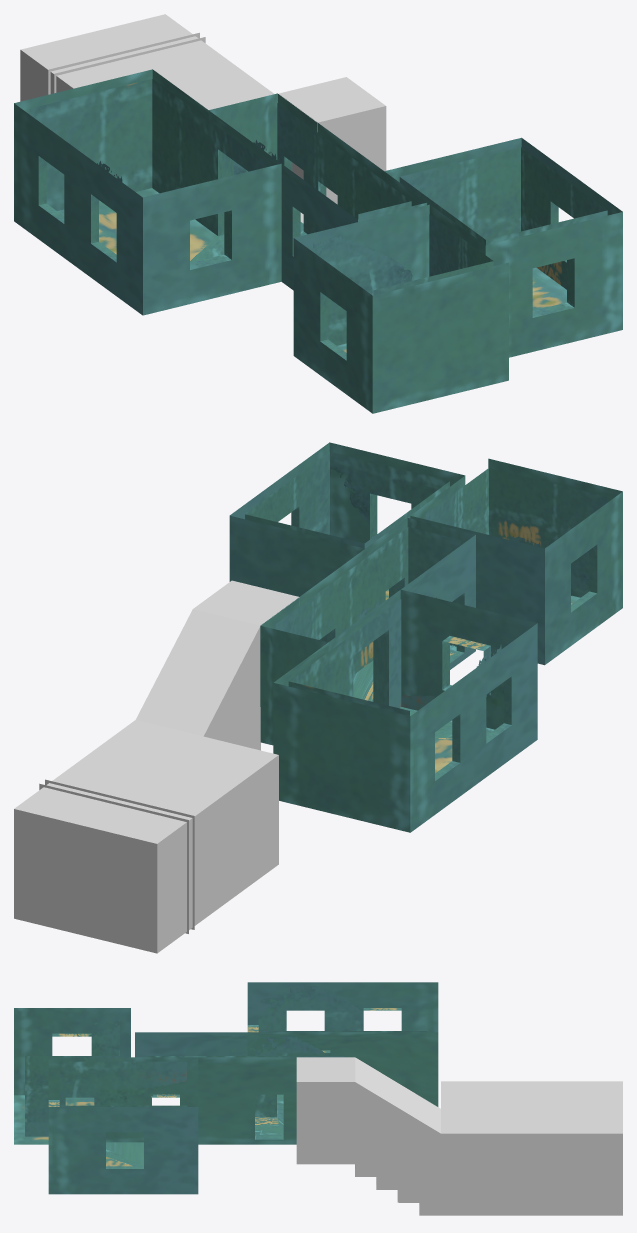
File: podval.fbx
The picture shows the model from 3 angles, top to bottom: view 1: azimuth 30°, elevation 25°; view 2: azimuth 150°, elevation 25°; view 3: azimuth 270°, elevation 25°; orthographic projection. The views are drawn at different scales.
Visible parts, largest first — view 1: СТЕНЫ, КУХНЯ СТЕНЫ, ГОСТИНАЯ СТЕНЫ, Cube.006, КОРИДОР СТЕНЫ, СПАЛЬНЯ СТЕНЫ, Cube.004, Cube.003, КУХНЯ ПОЛ, Cube.001, Cube.002, ГОСТИНАЯ ПОЛ; view 2: СТЕНЫ, Cube.001, Cube.006, Cube.004, СПАЛЬНЯ СТЕНЫ, ГОСТИНАЯ СТЕНЫ, КОРИДОР СТЕНЫ, КУХНЯ СТЕНЫ, Cube.003, Cube.002, КУХНЯ ПОЛ, КОРИДОР ПОЛ; view 3: СТЕНЫ, Cube.001, Cube.003, Cube.006, ГОСТИНАЯ СТЕНЫ, Cube.004, КУХНЯ СТЕНЫ, СПАЛЬНЯ СТЕНЫ, КОРИДОР СТЕНЫ, ГОСТИНАЯ ПОЛ, КОРИДОР ПОЛ.
Boxes of the visible parts, bbox=[...] form: СТЕНЫ: bbox=[14, 69, 622, 413]; КУХНЯ СТЕНЫ: bbox=[29, 79, 266, 235]; ГОСТИНАЯ СТЕНЫ: bbox=[399, 147, 607, 289]; Cube.006: bbox=[21, 14, 274, 109]; КОРИДОР СТЕНЫ: bbox=[233, 103, 411, 234]; СПАЛЬНЯ СТЕНЫ: bbox=[311, 214, 493, 345]; Cube.004: bbox=[278, 77, 385, 122]; Cube.003: bbox=[277, 94, 386, 204]; КУХНЯ ПОЛ: bbox=[57, 188, 224, 262]; Cube.001: bbox=[20, 50, 73, 101]; Cube.002: bbox=[48, 32, 205, 94]; ГОСТИНАЯ ПОЛ: bbox=[532, 267, 566, 310]; СТЕНЫ: bbox=[229, 442, 622, 832]; Cube.001: bbox=[14, 755, 278, 953]; Cube.006: bbox=[14, 720, 278, 843]; Cube.004: bbox=[135, 580, 299, 736]; СПАЛЬНЯ СТЕНЫ: bbox=[425, 468, 607, 595]; ГОСТИНАЯ СТЕНЫ: bbox=[245, 451, 449, 548]; КОРИДОР СТЕНЫ: bbox=[275, 527, 460, 674]; КУХНЯ СТЕНЫ: bbox=[288, 599, 506, 729]; Cube.003: bbox=[203, 597, 299, 750]; Cube.002: bbox=[39, 779, 194, 933]; КУХНЯ ПОЛ: bbox=[399, 707, 494, 773]; КОРИДОР ПОЛ: bbox=[353, 645, 464, 701]; СТЕНЫ: bbox=[14, 982, 438, 1194]; Cube.001: bbox=[441, 1133, 622, 1215]; Cube.003: bbox=[296, 1082, 440, 1215]; Cube.006: bbox=[441, 1081, 622, 1133]; ГОСТИНАЯ СТЕНЫ: bbox=[59, 1061, 187, 1106]; Cube.004: bbox=[296, 1057, 440, 1133]; КУХНЯ СТЕНЫ: bbox=[258, 986, 427, 1055]; СПАЛЬНЯ СТЕНЫ: bbox=[25, 1018, 119, 1136]; КОРИДОР СТЕНЫ: bbox=[146, 1036, 344, 1117]; ГОСТИНАЯ ПОЛ: bbox=[106, 1142, 143, 1166]; КОРИДОР ПОЛ: bbox=[255, 1114, 283, 1139].
Size of the model in its own units: 723 by 366 by 1494.
